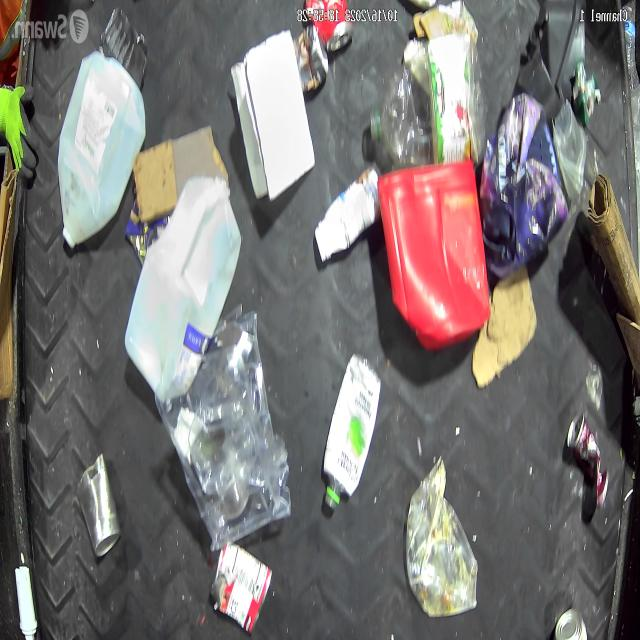can: (212, 542, 272, 634), (76, 455, 121, 557), (566, 411, 610, 508), (304, 0, 354, 51), (555, 606, 587, 640)
milk_jug: (124, 176, 241, 400), (57, 52, 146, 248)
non_white_jug: (376, 161, 490, 349), (480, 91, 568, 277), (518, 0, 586, 111), (622, 0, 636, 73)
plastic_bottle: (368, 32, 488, 164), (404, 455, 478, 618), (321, 348, 382, 514)
